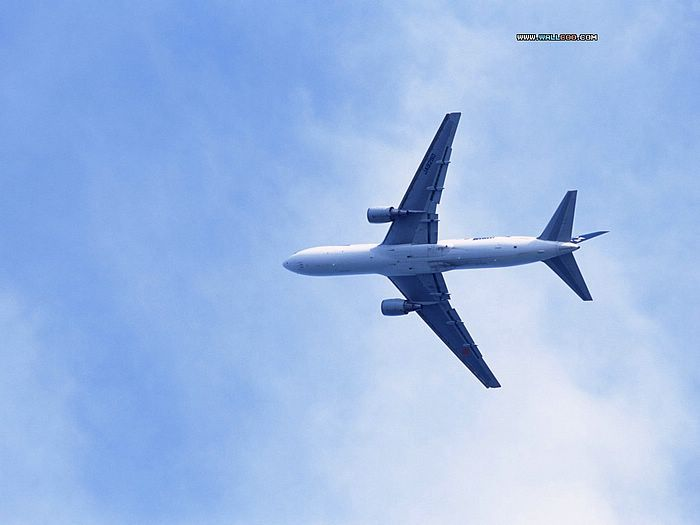plane: (283, 110, 607, 390)
